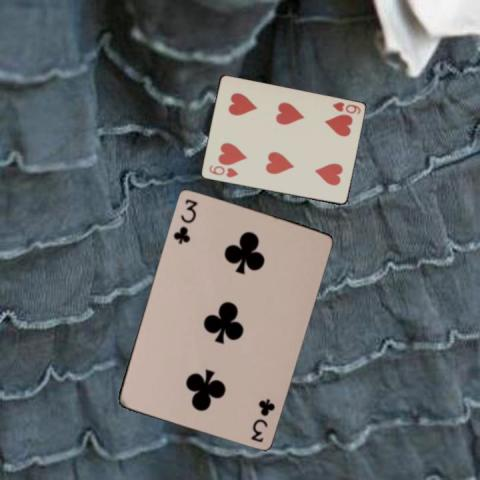3c: (170, 195, 199, 245), (247, 395, 276, 444)
6h: (206, 162, 239, 179), (329, 99, 362, 116)
